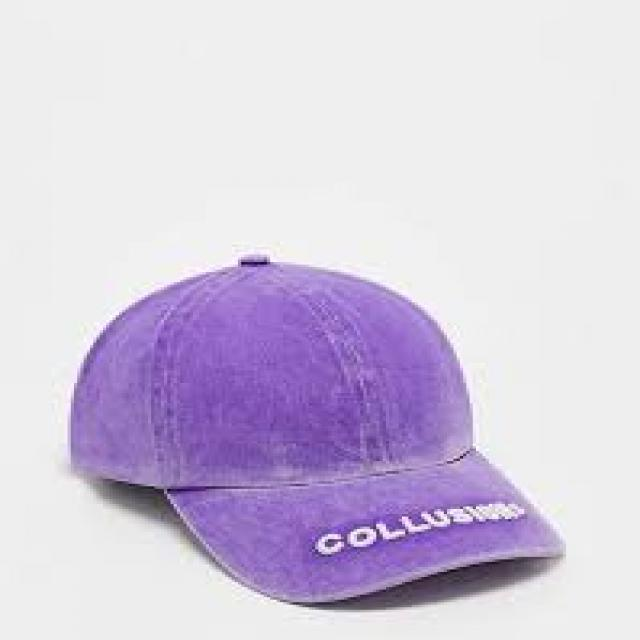suspicious-objects: (71, 257, 566, 605)
